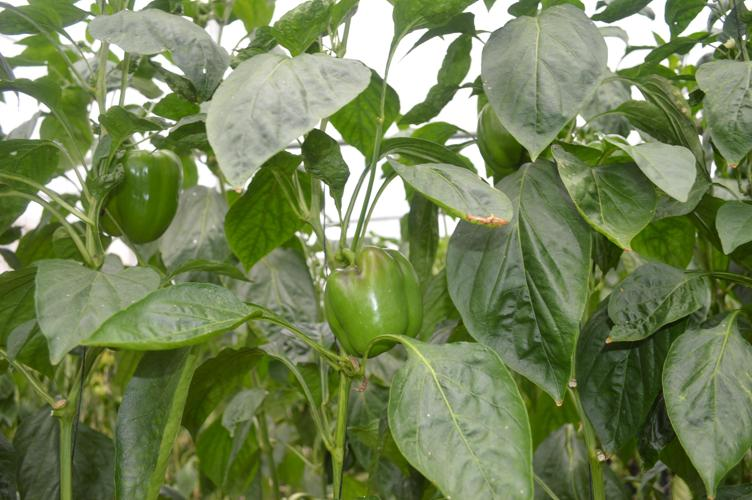BellPepper: (317, 245, 420, 347), (106, 151, 184, 241), (476, 107, 525, 173)
